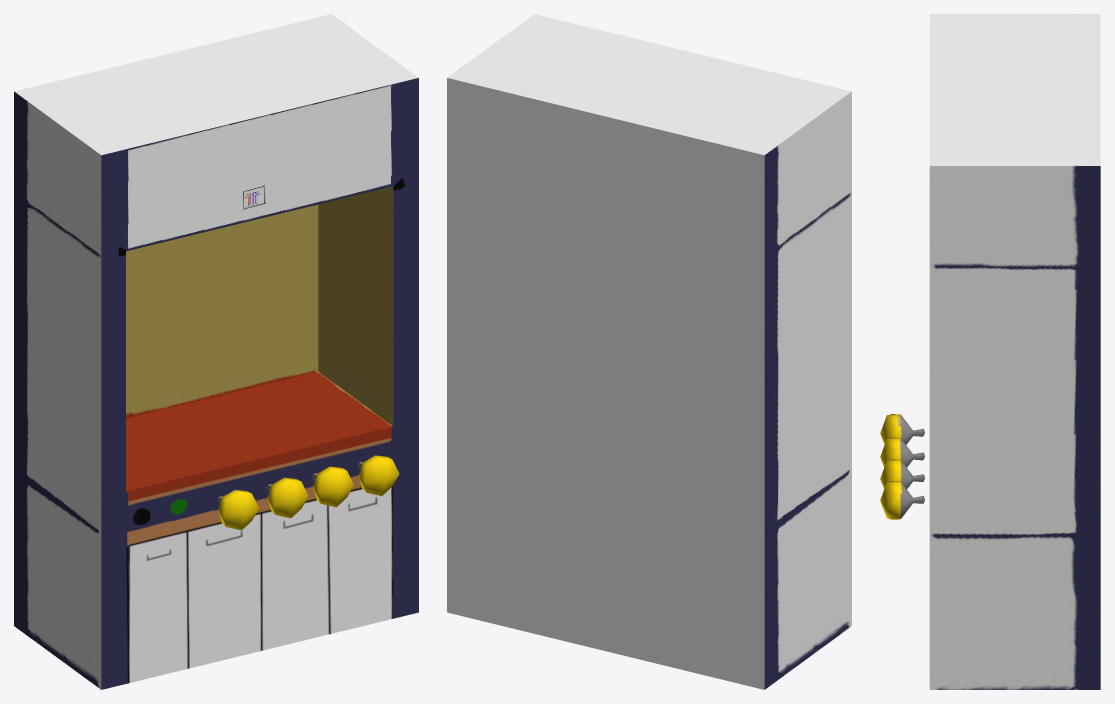
File: Air_Discharger.fbx
The picture shows the model from 3 angles, left to right: view 1: azimuth 30°, elevation 25°; view 2: azimuth 150°, elevation 25°; view 3: azimuth 270°, elevation 25°; orthographic projection. The views are drawn at different scales.
Visible parts, largest first — view 1: Air_Discharge; view 2: Air_Discharge; view 3: Air_Discharge.
Boxes of the visible parts, x1=… form: Air_Discharge: x1=14, y1=14, x2=418, y2=689; Air_Discharge: x1=447, y1=14, x2=851, y2=689; Air_Discharge: x1=880, y1=14, x2=1100, y2=689.
Bounding box in the file's own units: 544 × 876 × 334.
1 material, 1 textured.
